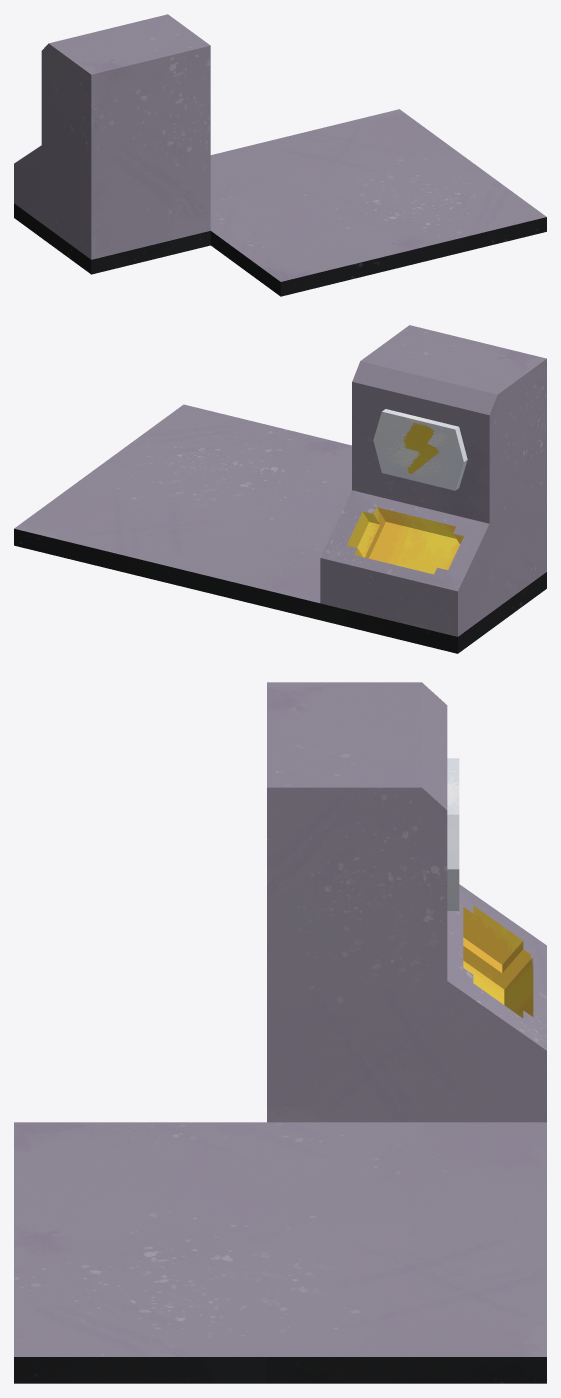
File: SM_chargingStation.fbx
The picture shows the model from 3 angles, top to bottom: view 1: azimuth 30°, elevation 25°; view 2: azimuth 150°, elevation 25°; view 3: azimuth 270°, elevation 25°; orthographic projection. The views are drawn at different scales.
Parts seen in each view (by area): view 1: chargingStation; view 2: chargingStation; view 3: chargingStation.
Part boxes in pixels (x1,y1,x2,y2): chargingStation: [14, 14, 546, 296]; chargingStation: [14, 325, 546, 653]; chargingStation: [14, 682, 546, 1383].
Size of the model in its own units: 48.26 by 23.9 by 31.96.
